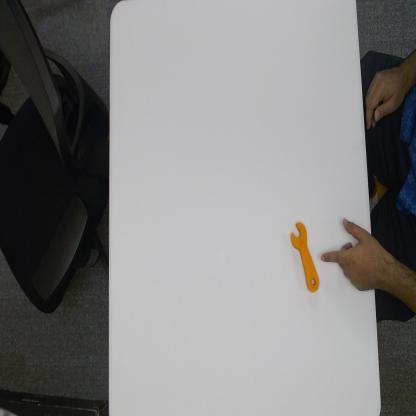Hand: (319, 214, 381, 294)
Screwdriver: (288, 215, 321, 296)
